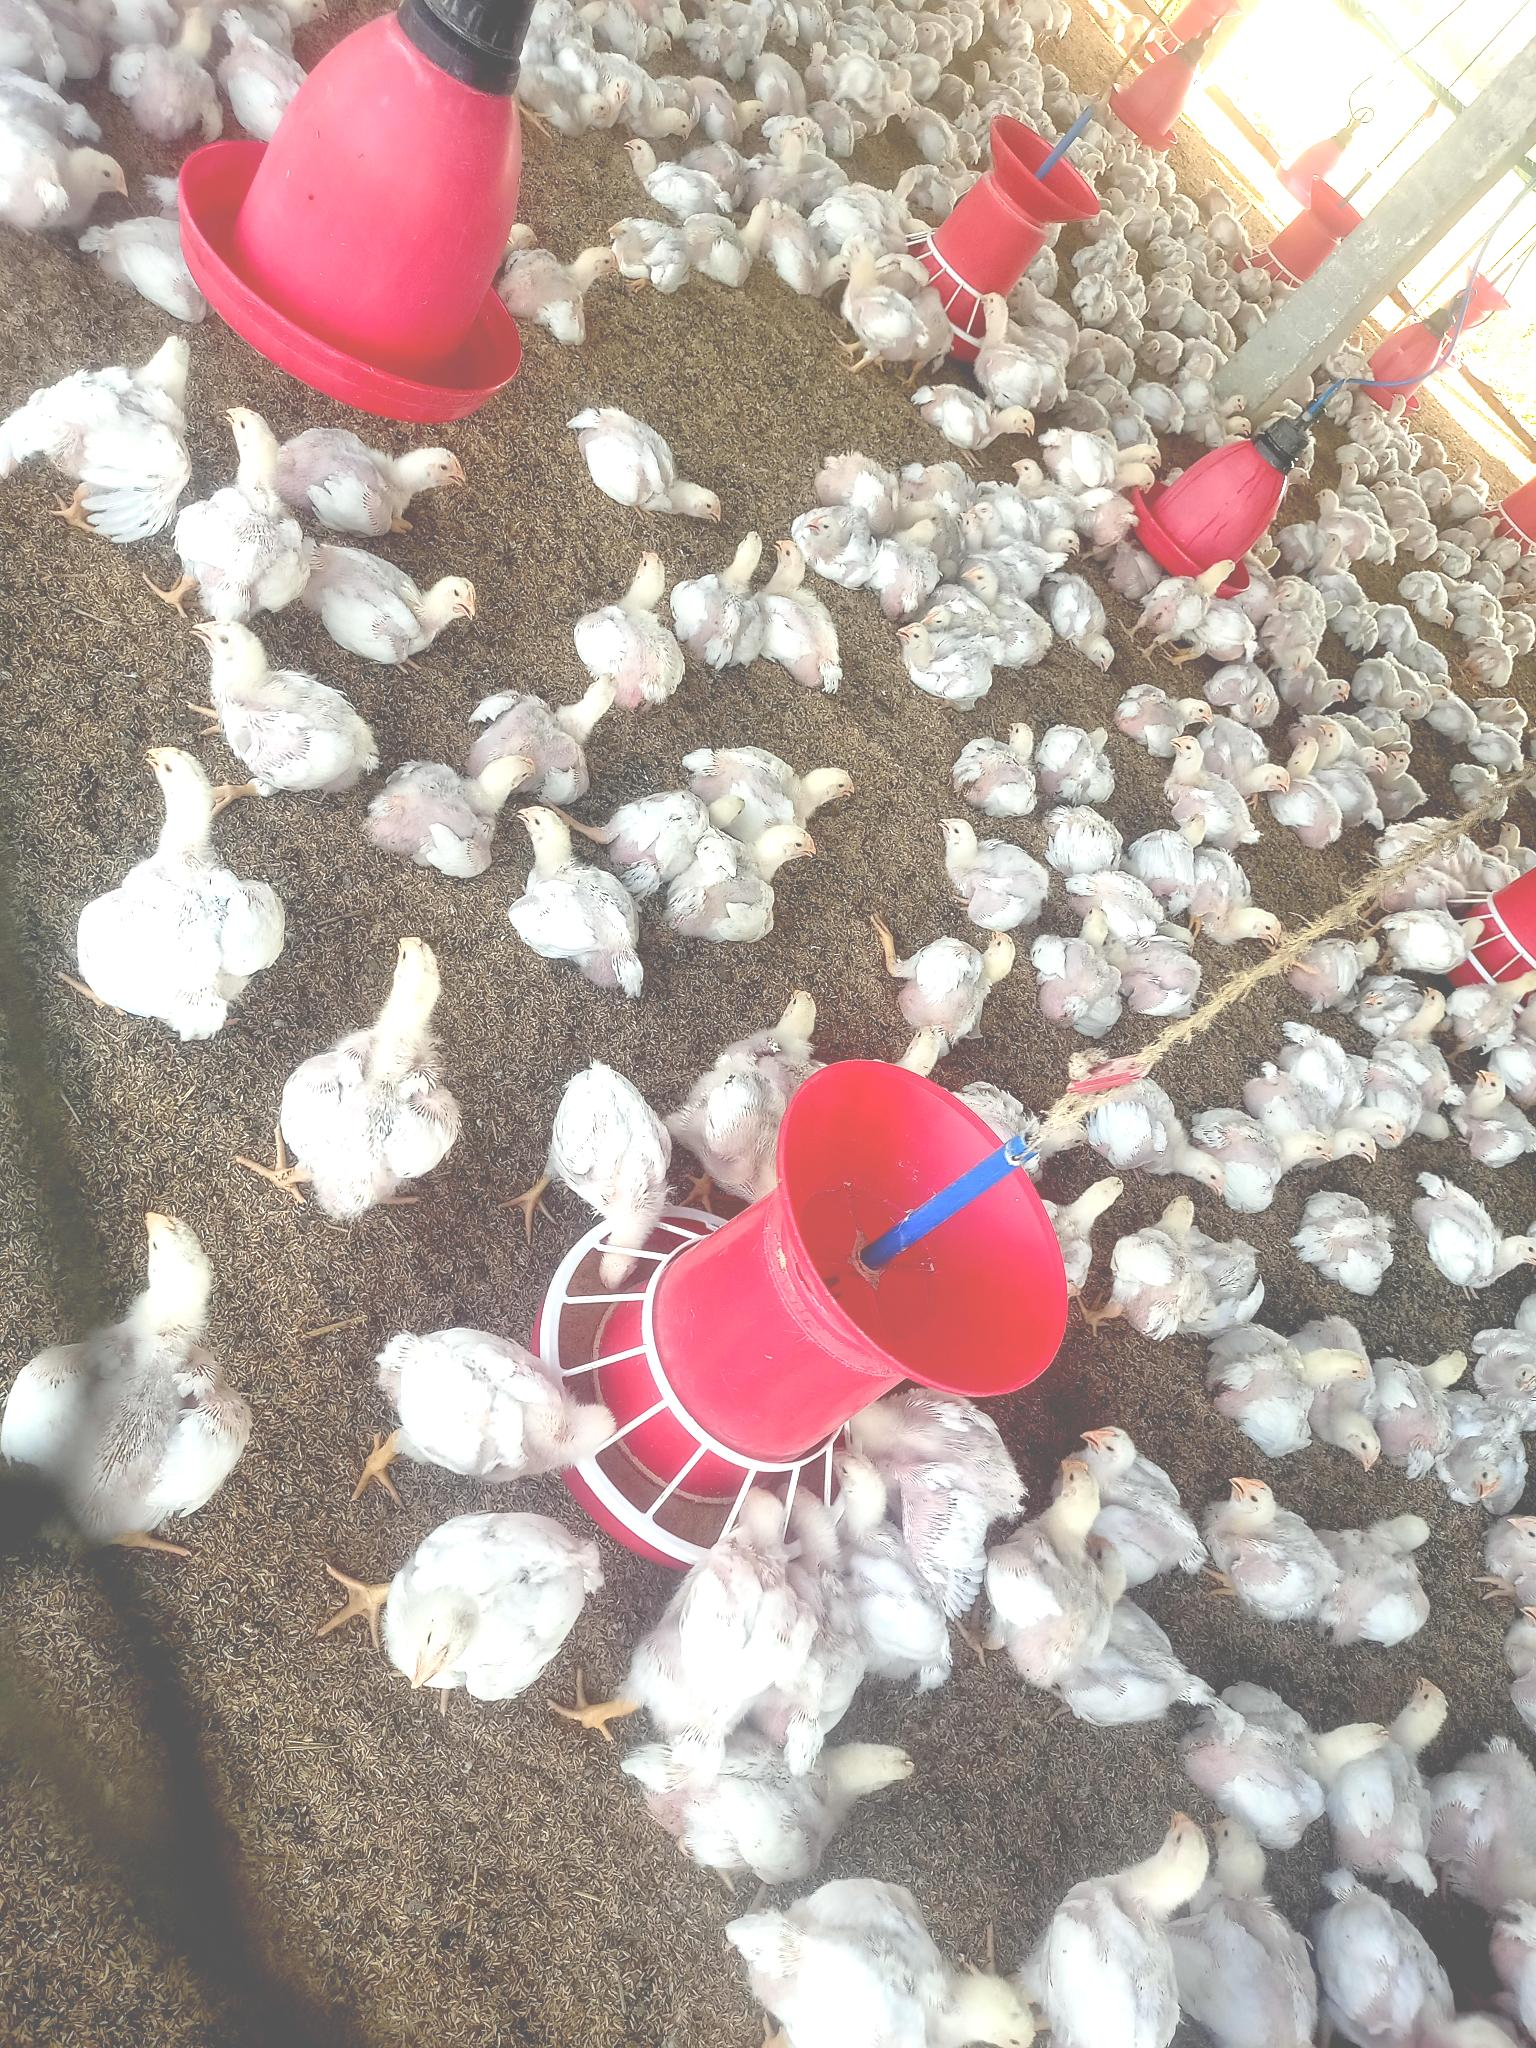Pollos: (8, 1206, 248, 1530), (89, 739, 269, 1029), (728, 1875, 1034, 2045), (282, 935, 470, 1200), (1029, 1801, 1220, 2042), (641, 1722, 936, 1875), (366, 1309, 628, 1480), (381, 1496, 587, 1705), (987, 1447, 1133, 1677), (182, 618, 382, 774), (1338, 1677, 1470, 1880), (518, 798, 650, 995), (553, 1048, 662, 1272), (376, 747, 545, 868), (700, 980, 821, 1145), (574, 403, 744, 519), (671, 826, 845, 939), (1120, 1184, 1238, 1350), (189, 406, 298, 581), (1210, 1474, 1341, 1617), (574, 547, 691, 687), (765, 540, 862, 705), (1283, 1319, 1383, 1472), (936, 808, 1049, 935), (681, 743, 862, 821), (313, 572, 482, 650), (1176, 842, 1296, 951), (303, 440, 481, 506), (1297, 1185, 1404, 1293), (895, 619, 1002, 718)
